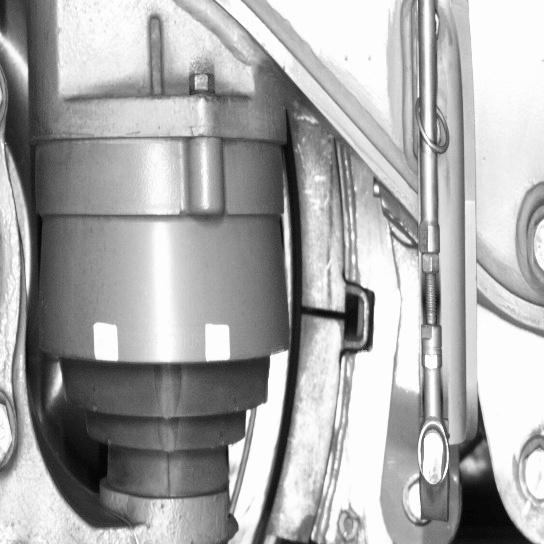KnifeSwitch: (247, 146, 357, 542)
